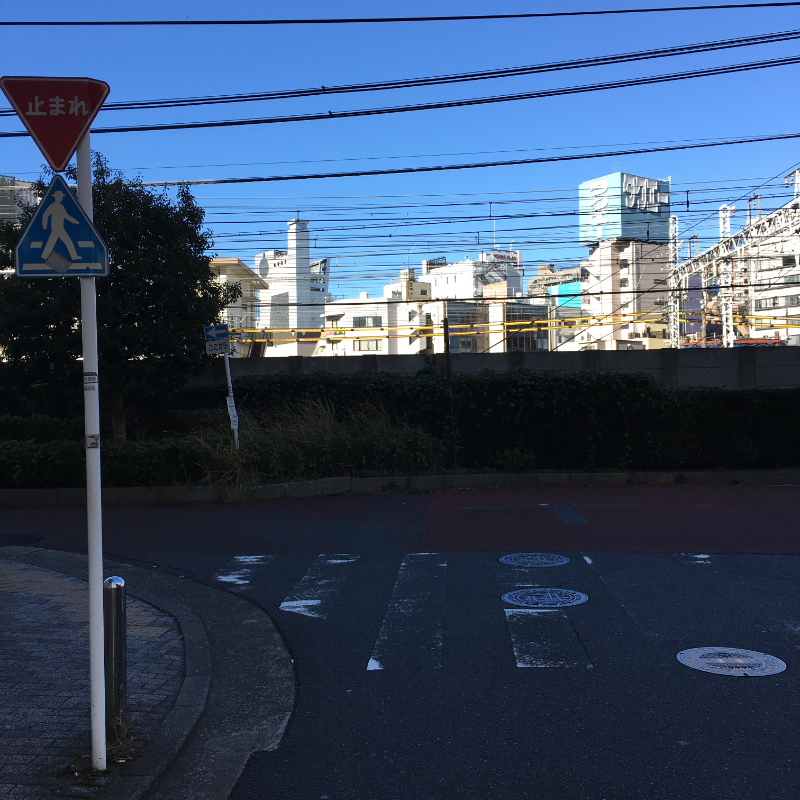STOP: (2, 75, 110, 172)
